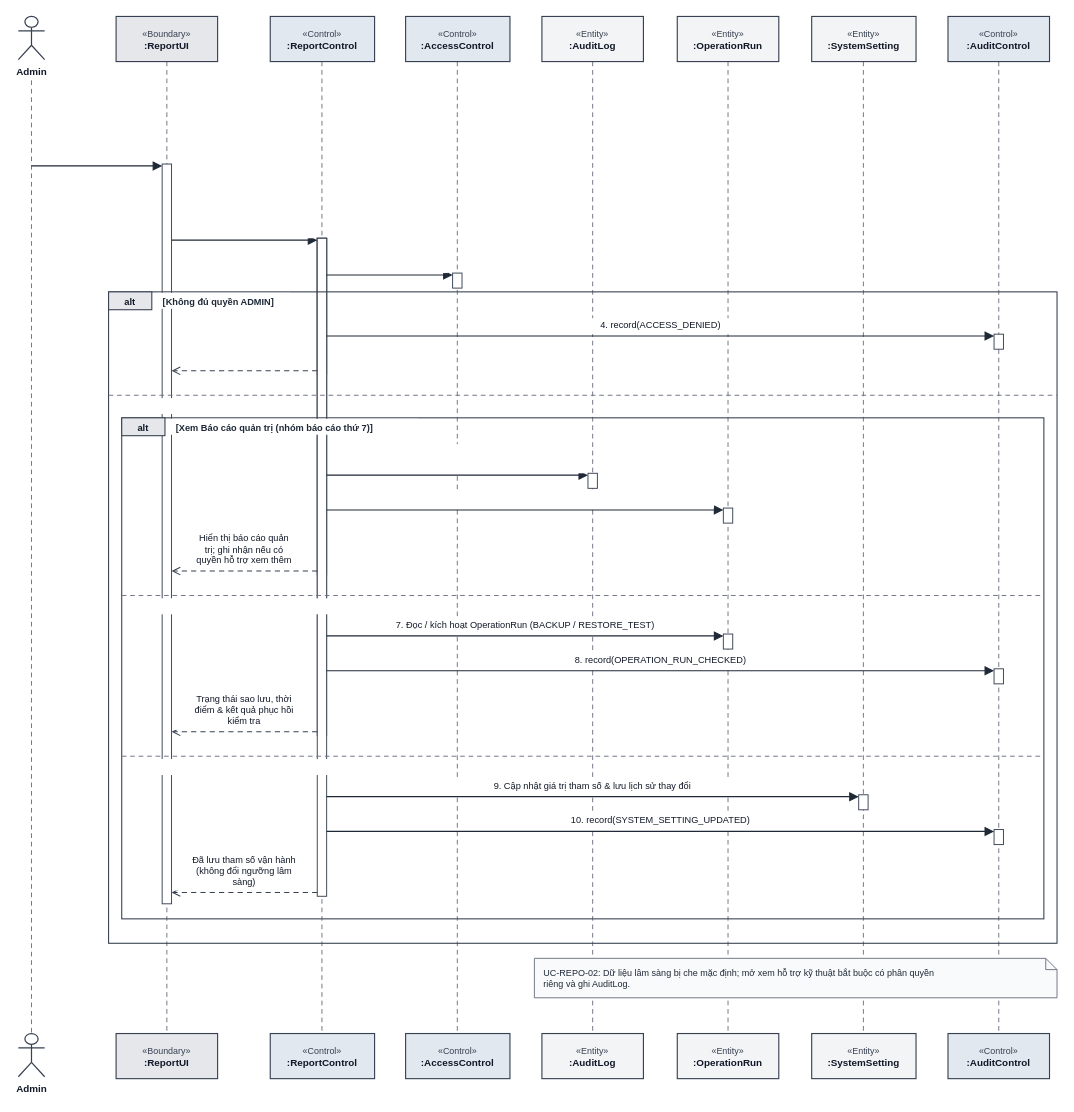
Image size: 1074x1112. Some labels were removed from this diagram. The centre of each missing label's shape, as x and y in pixels:
"1. Mở Báo cáo quản trị / Giám sát vận hành; chọn khoảng ngày hoặc thao tác" belongs at [95,136].
"2. executeAdminReportOrOp( action, dateRange, settingData)" belongs at [244,210].
"3. checkRole(ADMIN)" belongs at [389,265].
"5. Tổng hợp tài khoản mới, lịch sử đổi vai trò & nhật ký truy cập" belongs at [457,458].
"6. Lấy trạng thái vận hành & chỉ số hệ thống (che dữ liệu lâm sàng)" belongs at [524,500].
"[Cập nhật tham số vận hành hệ thống]" belongs at [233,767].
"[Kiểm tra kết quả sao lưu & chạy diễn tập phục hồi]" belongs at [274,606].
"[Đúng quyền ADMIN]" belongs at [171,406].
"Từ chối truy cập" belongs at [243,360].
